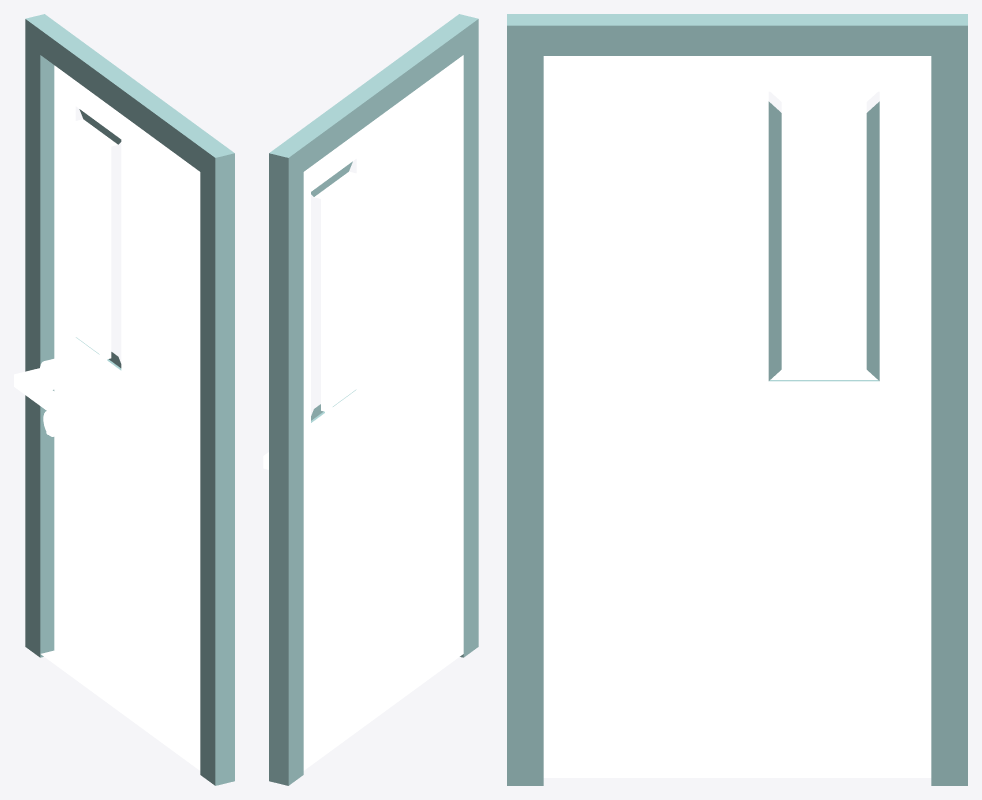
File: exitDoor.glb
The picture shows the model from 3 angles, left to right: view 1: azimuth 30°, elevation 25°; view 2: azimuth 150°, elevation 25°; view 3: azimuth 270°, elevation 25°; orthographic projection. The views are drawn at different scales.
Parts seen in each view (by area): view 1: porte-Door, encadre, porte-Glasses, porte-Frame, porte-Handle, porte-Bleu; view 2: porte-Door, encadre, porte-Frame, porte-Glasses, porte-Handle, porte-Bleu; view 3: porte-Door, encadre, porte-Glasses, porte-Bleu, porte-Handle, porte-Frame.
Part boxes in pixels (box(x1,y1,x2,y2)): porte-Door: box(41, 65, 200, 770); encadre: box(25, 14, 234, 785); porte-Glasses: box(71, 129, 111, 359); porte-Frame: box(59, 110, 117, 374); porte-Handle: box(14, 356, 74, 436); porte-Bleu: box(76, 109, 121, 370); porte-Door: box(303, 55, 463, 770); encadre: box(269, 14, 478, 785); porte-Frame: box(314, 163, 372, 426); porte-Glasses: box(321, 185, 360, 411); porte-Handle: box(263, 443, 391, 534); porte-Bleu: box(311, 161, 356, 422); porte-Door: box(543, 56, 931, 777); encadre: box(507, 14, 967, 785); porte-Glasses: box(781, 113, 866, 365); porte-Bleu: box(768, 101, 879, 381); porte-Handle: box(805, 403, 917, 503); porte-Frame: box(770, 91, 877, 371).
Bounding box in the file's own units: 32.59 × 227 × 125.
